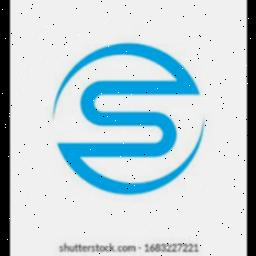s: (78, 78, 176, 160)
